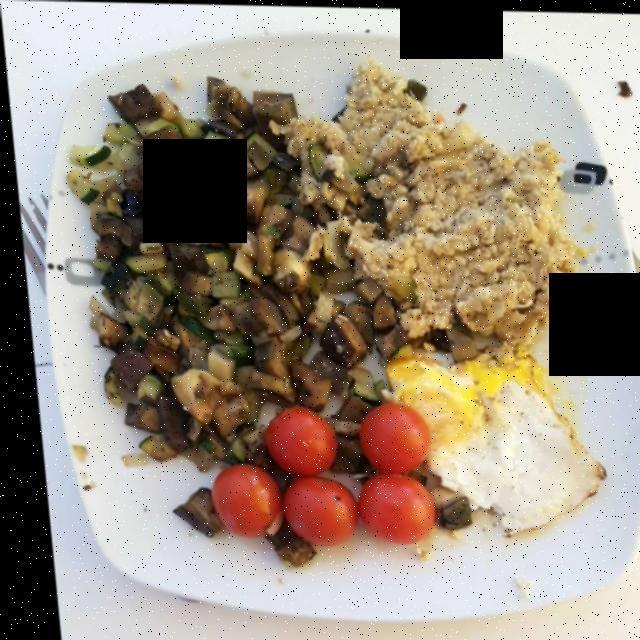eggs: (378, 346, 600, 538)
oats: (287, 57, 578, 349)
tomato: (205, 401, 422, 540)
